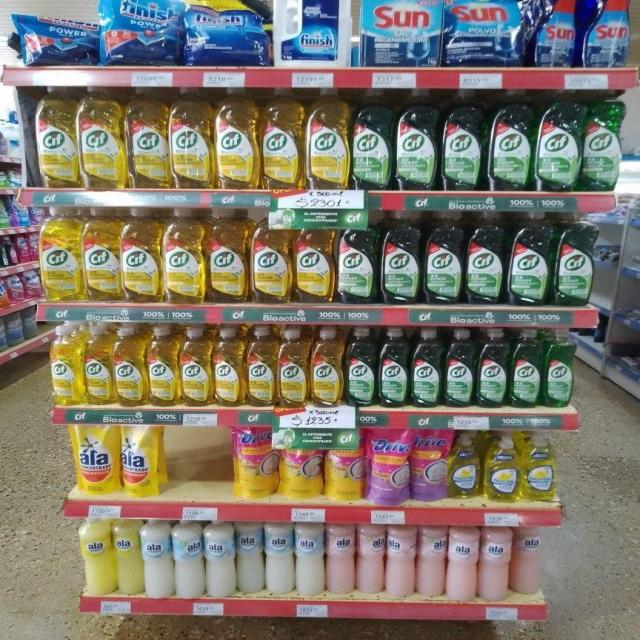ala_crem_amarillo: (80, 516, 112, 597), (114, 516, 142, 596)
ala_crem_blanco: (204, 520, 235, 598), (173, 519, 203, 599), (142, 518, 172, 598), (295, 520, 324, 596), (265, 521, 294, 596), (237, 520, 263, 596)
ala_crem_rosado: (480, 524, 511, 603), (447, 524, 478, 602), (417, 524, 447, 599), (512, 524, 542, 598), (386, 523, 415, 598), (326, 522, 355, 596), (356, 522, 384, 596)
ala_sachet_amarillo: (75, 422, 118, 496), (121, 423, 163, 498)
cif_conc_bot_amarilla: (79, 85, 124, 189), (306, 86, 349, 190), (215, 86, 258, 190), (169, 86, 212, 189), (261, 86, 303, 190), (35, 85, 77, 189), (126, 85, 167, 189), (163, 206, 205, 304), (40, 205, 81, 302), (251, 209, 292, 304), (208, 207, 248, 304), (120, 206, 160, 303), (294, 214, 335, 305), (83, 206, 119, 302), (113, 325, 146, 407), (50, 324, 83, 405), (310, 326, 343, 406), (213, 326, 246, 406), (180, 326, 212, 406), (148, 324, 178, 406), (246, 325, 276, 406), (278, 327, 308, 407), (84, 324, 112, 406), (386, 621, 433, 640), (301, 620, 344, 640), (344, 621, 385, 640), (486, 621, 526, 640), (434, 622, 476, 640), (264, 619, 296, 640), (459, 623, 496, 640), (232, 619, 256, 640), (205, 619, 228, 640)
cif_conc_botella_verde: (395, 87, 438, 192), (441, 87, 484, 192), (488, 92, 532, 192), (351, 87, 393, 191), (535, 96, 580, 193), (508, 211, 551, 307), (554, 212, 596, 308), (380, 210, 421, 306), (582, 96, 622, 192), (337, 210, 377, 304), (466, 210, 505, 306), (424, 210, 463, 306), (509, 328, 542, 409), (344, 326, 376, 407), (543, 328, 575, 408), (477, 328, 508, 408), (411, 328, 442, 408), (444, 328, 475, 408), (378, 327, 409, 407)
drive: (232, 424, 276, 500), (367, 427, 409, 505), (325, 428, 364, 502), (412, 428, 447, 503)
magistral_con_amarillo: (484, 438, 520, 502), (522, 436, 556, 502), (448, 434, 482, 499)
